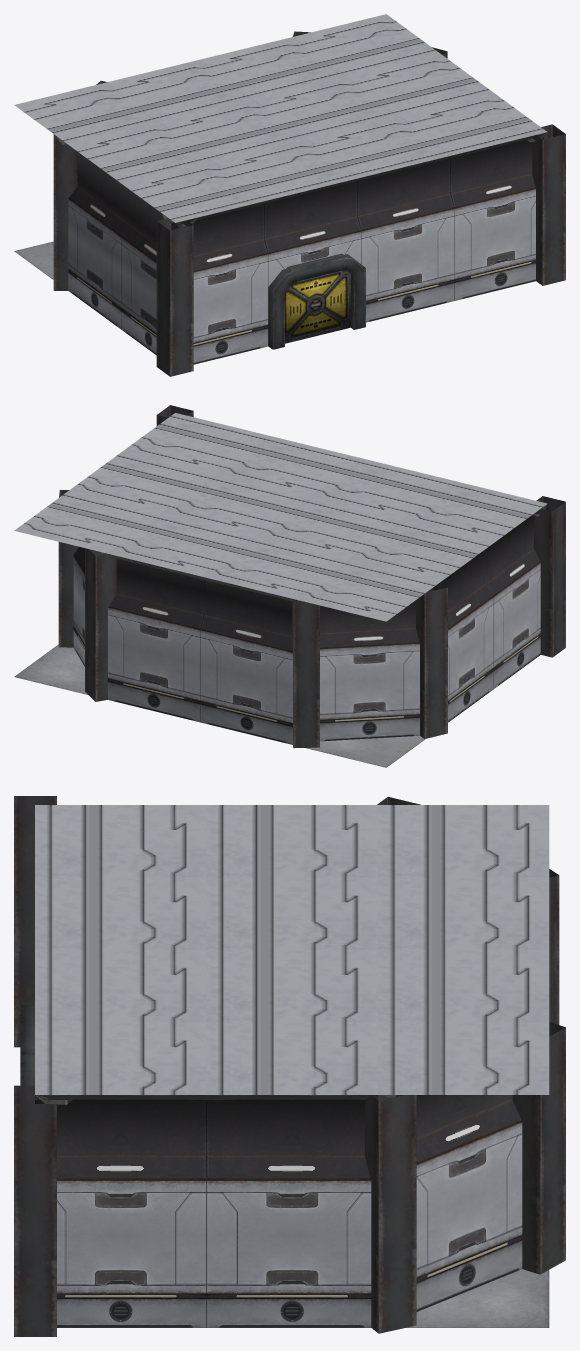
File: SalaVigia.fbx
3 views of the same model, one above another, from view 1: azimuth 30°, elevation 25°; view 2: azimuth 150°, elevation 25°; view 3: azimuth 270°, elevation 25° (orthographic). The views are drawn at different scales.
Parts seen in each view (by area): view 1: ROOM_WALL.242, ROOM_WALL.241, ROOM_WALL.244, ROOM_WALL.246, MESH_DOOR_LAB.001, ROOM_WALL.243, ROOM_VIGA_QUINA.007, ROOM_WALL.245, ROOM_ROOF.070, ROOM_ROOF.062, ROOM_ROOF.065, ROOM_ROOF.061 (+11 smaller); view 2: ROOM_WALL.250, ROOM_WALL.249, ROOM_WALL.251, ROOM_WALL.245, ROOM_WALL.246, ROOM_ROOF.066, ROOM_ROOF.065, ROOM_ROOF.062, ROOM_ROOF.067, ROOM_ROOF.068, ROOM_ROOF.069, ROOM_ROOF.060 (+13 smaller); view 3: ROOM_WALL.253, ROOM_WALL.252, ROOM_WALL.247, ROOM_ROOF.060, ROOM_ROOF.063, ROOM_ROOF.064, ROOM_ROOF.065, ROOM_ROOF.066, ROOM_ROOF.067, ROOM_ROOF.068, ROOM_ROOF.071, ROOM_ROOF.061 (+12 smaller).
Boxes of the visible parts, <box> form: ROOM_WALL.242: <box>357,158,454,322</box>; ROOM_WALL.241: <box>450,137,543,300</box>; ROOM_WALL.244: <box>171,204,268,364</box>; ROOM_WALL.246: <box>68,152,128,329</box>; MESH_DOOR_LAB.001: <box>268,253,365,349</box>; ROOM_WALL.243: <box>264,181,361,286</box>; ROOM_VIGA_QUINA.007: <box>156,218,193,376</box>; ROOM_WALL.245: <box>121,189,181,354</box>; ROOM_ROOF.070: <box>107,59,253,121</box>; ROOM_ROOF.062: <box>215,138,360,200</box>; ROOM_ROOF.065: <box>254,76,400,137</box>; ROOM_ROOF.061: <box>308,115,454,177</box>; ROOM_WALL.250: <box>200,580,297,744</box>; ROOM_WALL.249: <box>107,559,203,721</box>; ROOM_WALL.251: <box>320,600,419,741</box>; ROOM_WALL.245: <box>487,516,540,688</box>; ROOM_WALL.246: <box>433,548,493,722</box>; ROOM_ROOF.066: <box>254,497,400,559</box>; ROOM_ROOF.065: <box>161,475,307,536</box>; ROOM_ROOF.062: <box>308,458,453,520</box>; ROOM_ROOF.067: <box>347,520,493,582</box>; ROOM_ROOF.068: <box>14,491,160,553</box>; ROOM_ROOF.069: <box>107,514,253,575</box>; ROOM_ROOF.060: <box>122,413,267,474</box>; ROOM_WALL.253: <box>206,1100,371,1327</box>; ROOM_WALL.252: <box>35,1100,206,1327</box>; ROOM_WALL.247: <box>416,1095,522,1311</box>; ROOM_ROOF.060: <box>35,1022,206,1094</box>; ROOM_ROOF.063: <box>35,805,206,877</box>; ROOM_ROOF.064: <box>206,1022,377,1094</box>; ROOM_ROOF.065: <box>206,950,377,1022</box>; ROOM_ROOF.066: <box>206,877,377,949</box>; ROOM_ROOF.067: <box>206,805,377,877</box>; ROOM_ROOF.068: <box>378,1022,549,1094</box>; ROOM_ROOF.071: <box>378,805,549,877</box>; ROOM_ROOF.061: <box>35,950,206,1022</box>.
Bounding box in the file's own units: 17 × 6 × 12.88.
